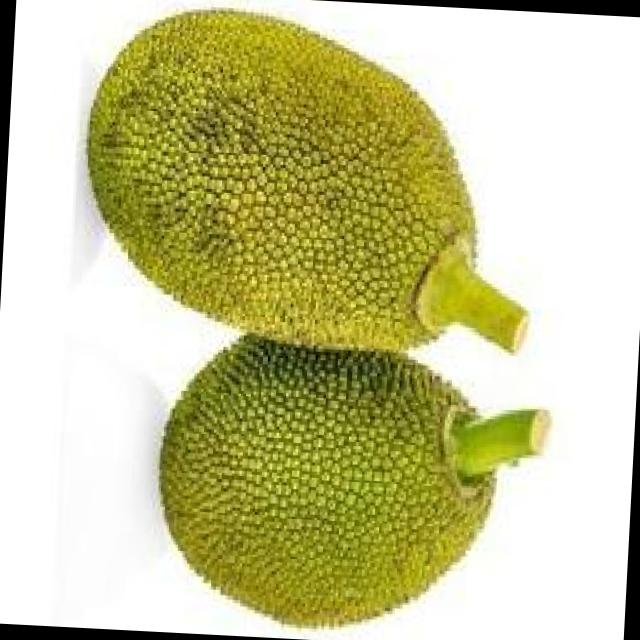Fruit: (50, 0, 509, 385), (126, 299, 520, 640)
